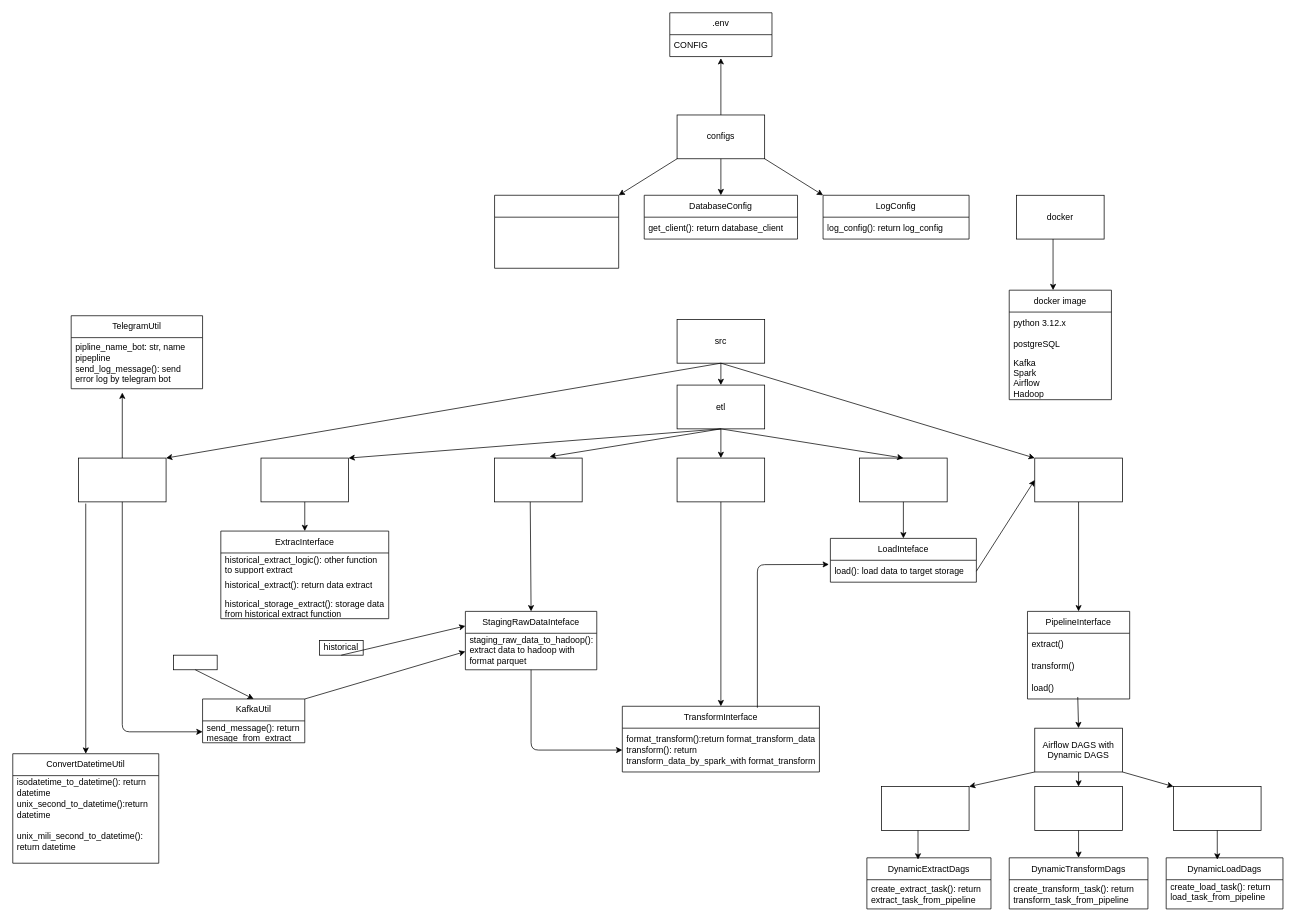
This 1296x922 diagram has some shape labels left out. The shapes that lost their labels are listed below. From the top down, each one's centre as x and y in pixels, then its label:
At (x=556, y=231): "DATABASE_CONFIG DATA_SOURCE_CONFIG ETL_CONFIG ...".
At (x=122, y=479): "utils".
At (x=304, y=479): "extract".
At (x=538, y=479): "staging_raw_data".
At (x=720, y=479): "transform".
At (x=903, y=479): "load".
At (x=1078, y=479): "pipeline".
At (x=195, y=662): "realtime".
At (x=925, y=808): "extract_dags".
At (x=1078, y=808): "transform_dags".
At (x=1217, y=808): "load_dags".
